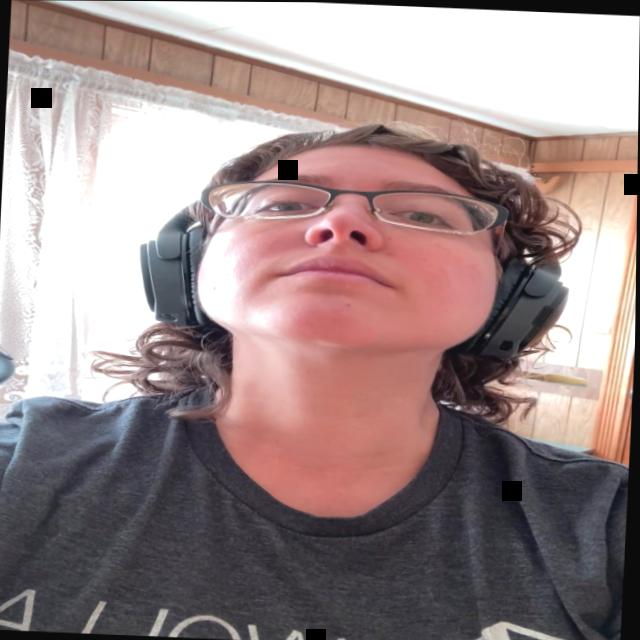NO-Mask: (193, 130, 517, 374)
